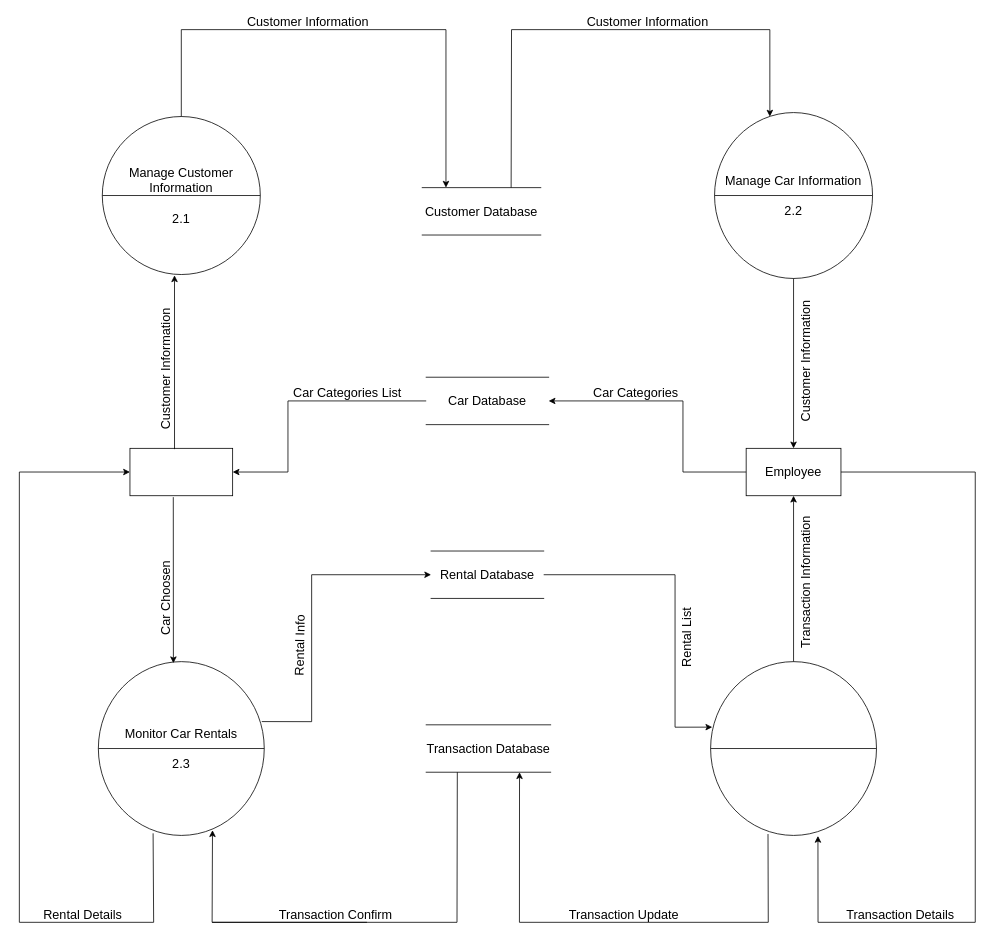
This 995x942 diagram has some shape labels left out. Here are the shapes that lost their labels. From the top down, the centre of each, then its label:
At [181,472]: "Customer".
At [793,748]: "Manage Transactions 2.4".
